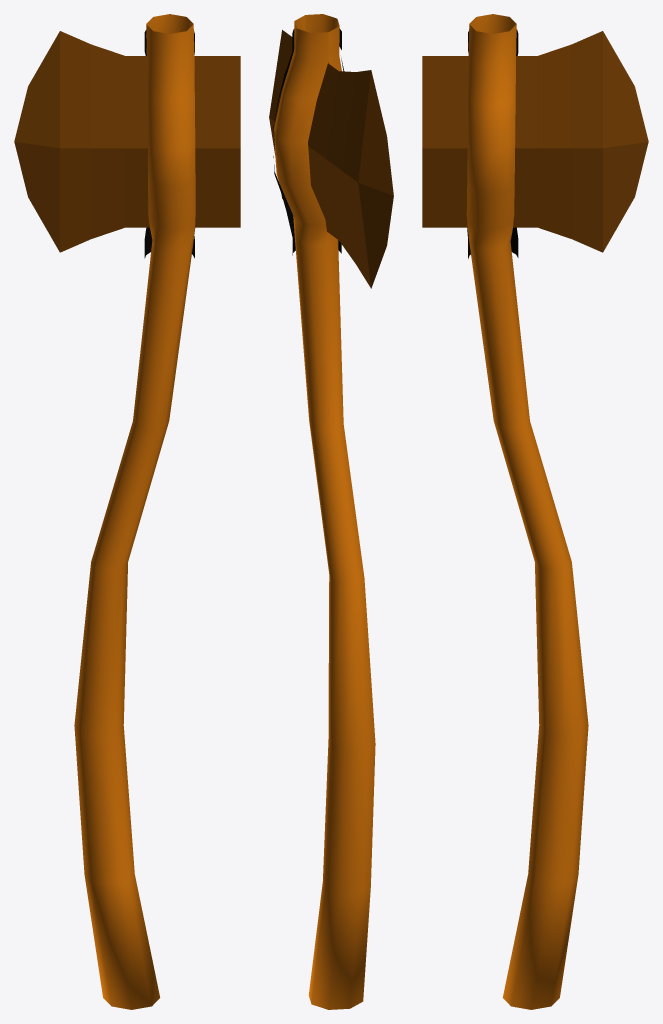
File: woodaxe.fbx
3 views of the same model, side by side, from view 1: azimuth 90°, elevation 25°; view 2: azimuth 210°, elevation 25°; view 3: azimuth 270°, elevation 25° (orthographic).
Parts seen in each view (by area): view 1: 円柱; view 2: 円柱; view 3: 円柱.
Boxes of the visible parts, x1,y1,x2,y2 form: 円柱: (14, 14, 240, 1009); 円柱: (269, 14, 393, 1009); 円柱: (422, 14, 648, 1009).
Size of the model in its own units: 87.2 by 1031 by 217.
